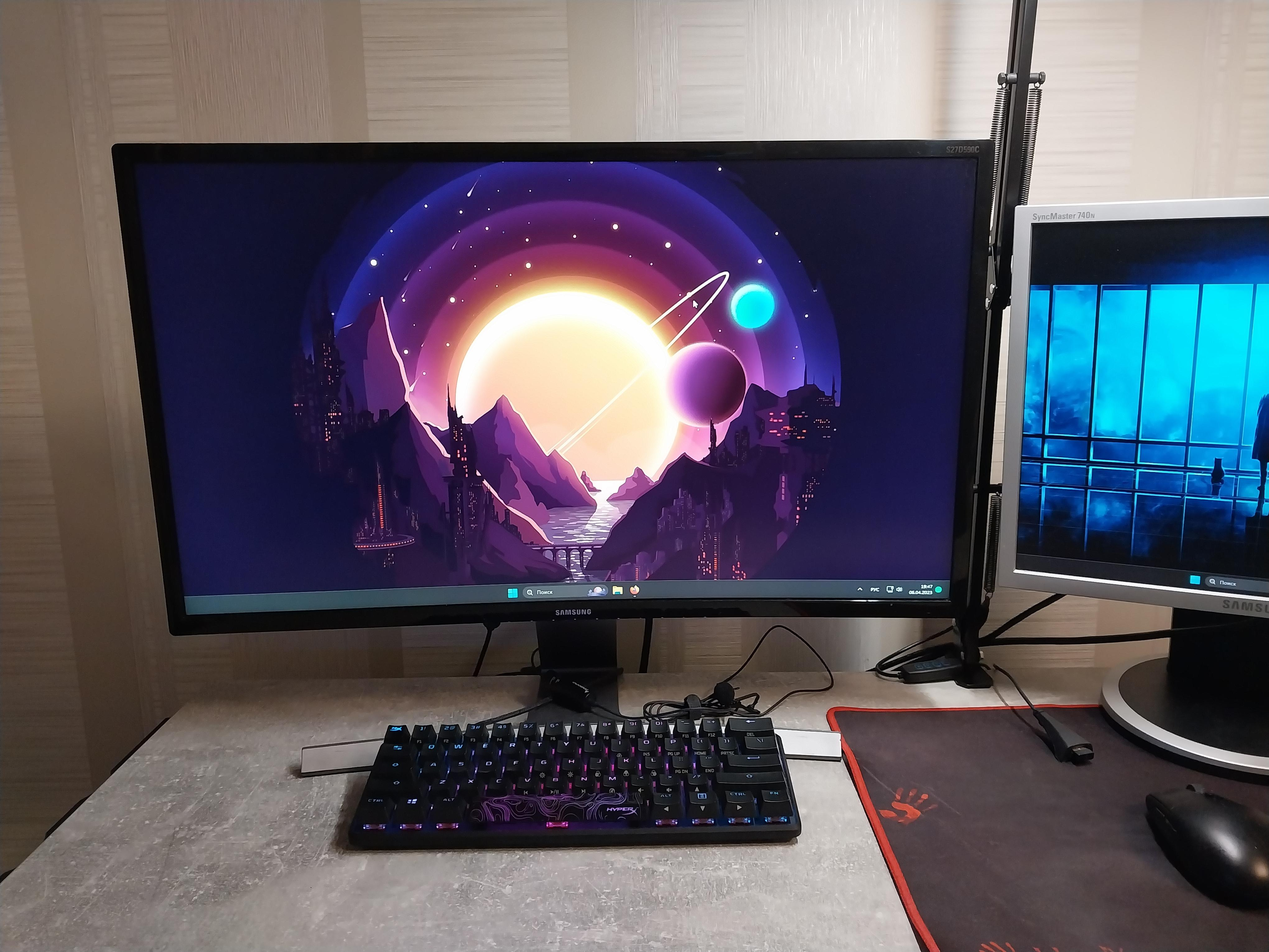monitor: (109, 131, 997, 639), (998, 199, 1269, 624)
